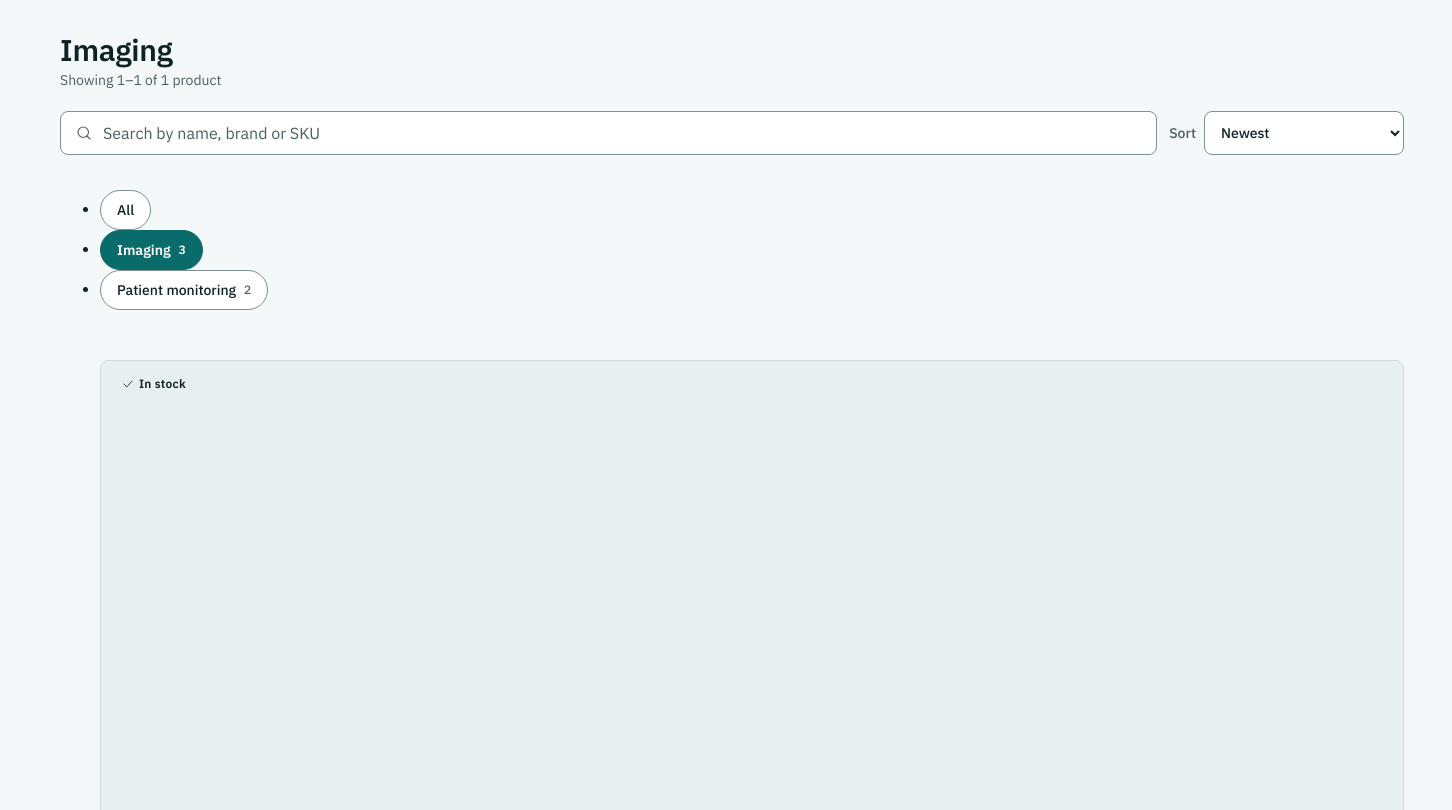
it: Catalog › searches after a pause, not on every key
The width and height of the screenshot is (1452, 810).
Type "pu" into the search field named "Search products".
click(622, 133); type("pu")  # box [101,113,1142,153]
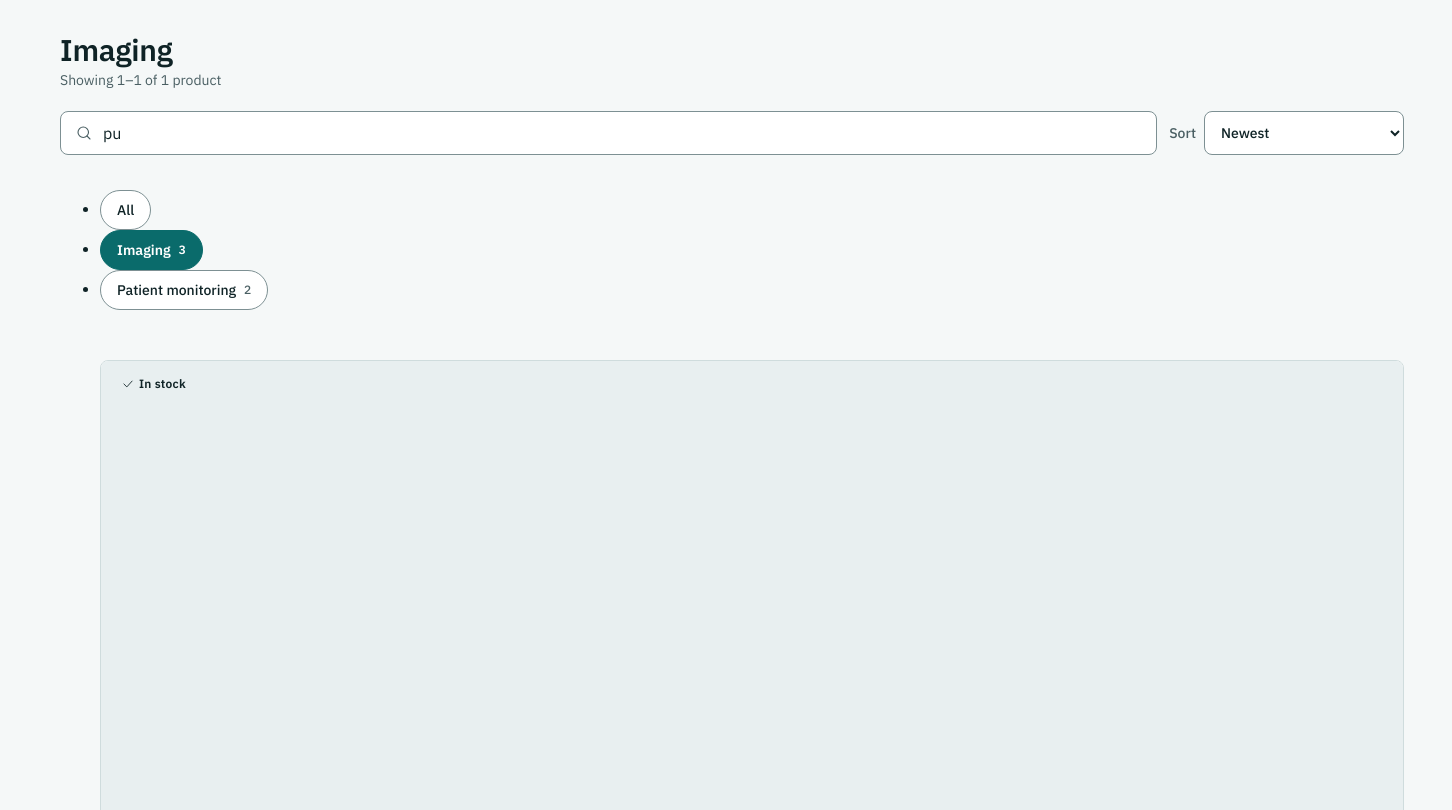
Replace the text in the search field named "Search products" with "pump" at (622,133), box [101,113,1142,153]
(page scrolled)
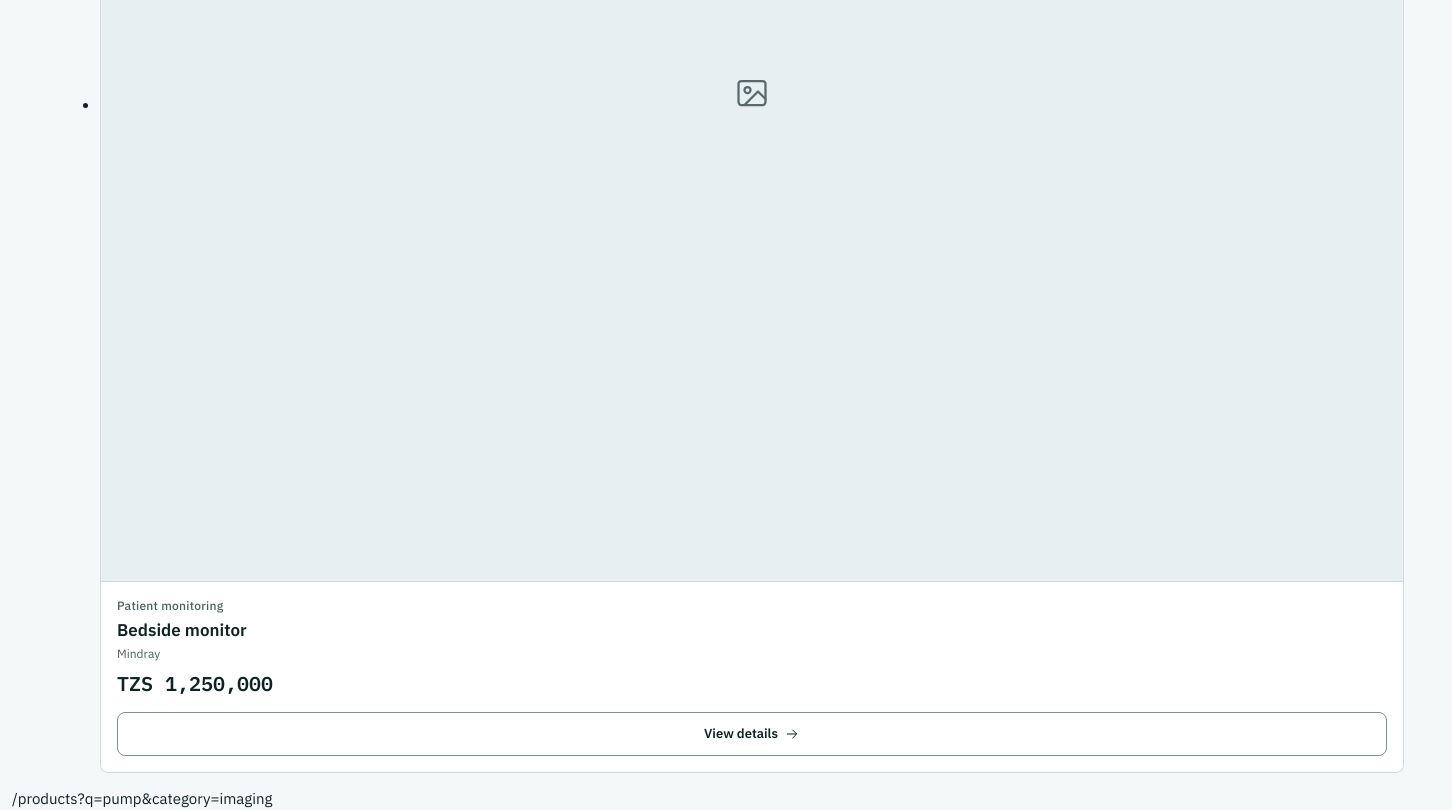
Now the text with test id "where" reads "/products?q=pump&category=imaging", box [12,788,272,808]
